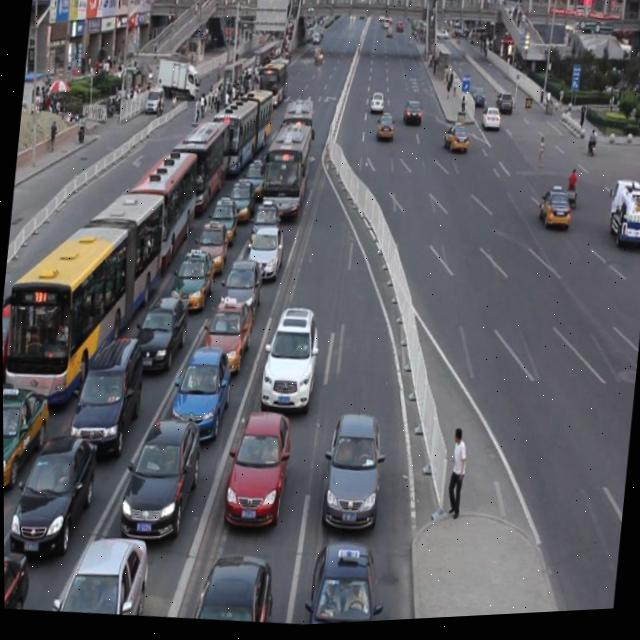bus: (602, 181, 640, 255)
car: (6, 422, 99, 547), (118, 405, 203, 534), (50, 521, 149, 620), (67, 323, 146, 446), (318, 406, 388, 524), (222, 404, 293, 518), (301, 535, 385, 628), (183, 544, 275, 628), (257, 299, 321, 406), (170, 336, 233, 431), (2, 375, 48, 485), (132, 282, 189, 365), (198, 290, 253, 367), (217, 252, 264, 318), (170, 242, 216, 305), (247, 218, 285, 273), (192, 211, 230, 266), (3, 536, 30, 610), (2, 302, 26, 381), (534, 188, 572, 236), (205, 189, 238, 238), (249, 191, 280, 241), (239, 150, 270, 193), (226, 170, 255, 214), (442, 124, 468, 156), (374, 112, 394, 146), (401, 102, 421, 130), (480, 110, 500, 137), (493, 94, 512, 119), (467, 89, 485, 114), (368, 93, 383, 118), (634, 185, 640, 224)
van: (1, 172, 167, 405), (117, 136, 200, 266), (209, 73, 274, 168), (258, 117, 313, 223), (173, 108, 227, 206), (279, 99, 319, 162)
